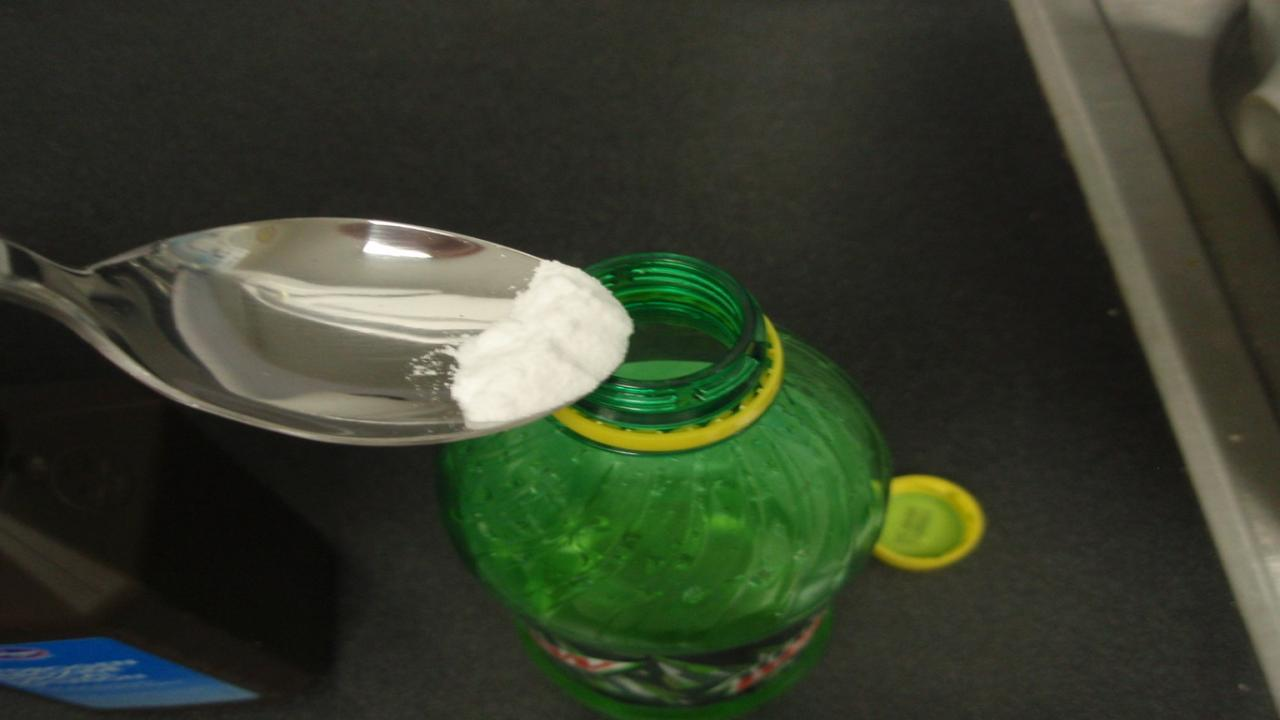bottle_cap: (868, 469, 989, 575)
